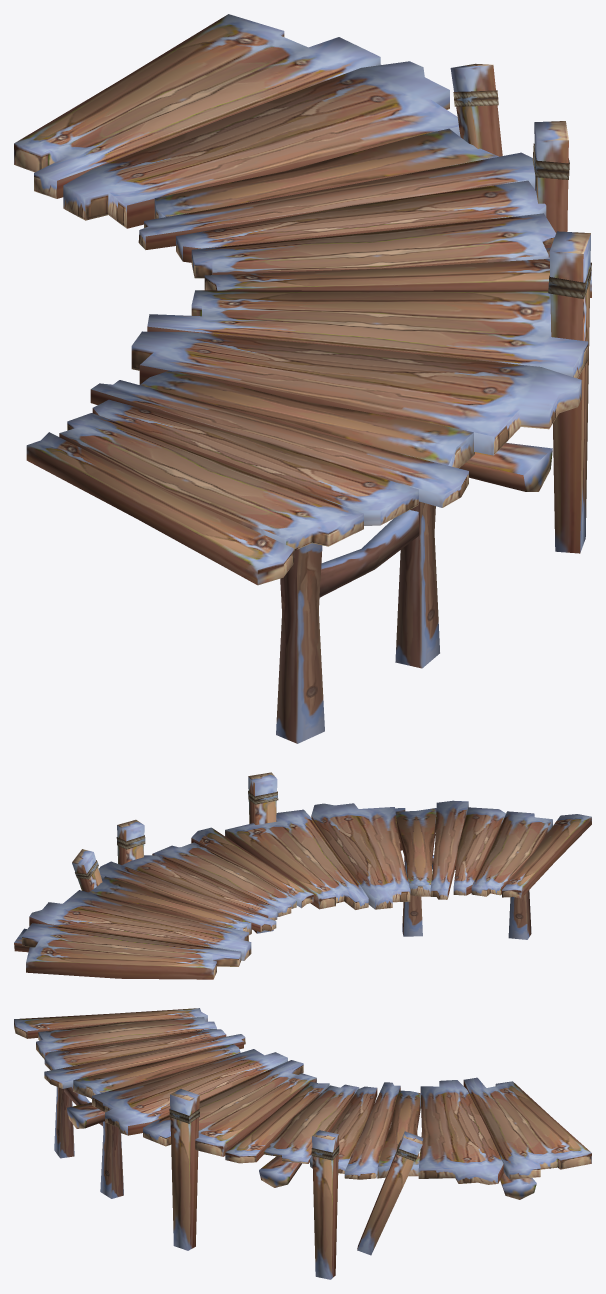
File: Map_10_wooden16.FBX
3 views of the same model, one above another, from view 1: azimuth 30°, elevation 25°; view 2: azimuth 150°, elevation 25°; view 3: azimuth 270°, elevation 25° (orthographic). The views are drawn at different scales.
Visible parts, largest first — view 1: Map_10_wooden16; view 2: Map_10_wooden16; view 3: Map_10_wooden16.
Part boxes in pixels (x1,y1,x2,y2): Map_10_wooden16: (14, 14, 591, 743); Map_10_wooden16: (14, 772, 591, 979); Map_10_wooden16: (14, 1008, 591, 1279).
Bounding box in the file's own units: 23.94 × 10.25 × 34.87.
